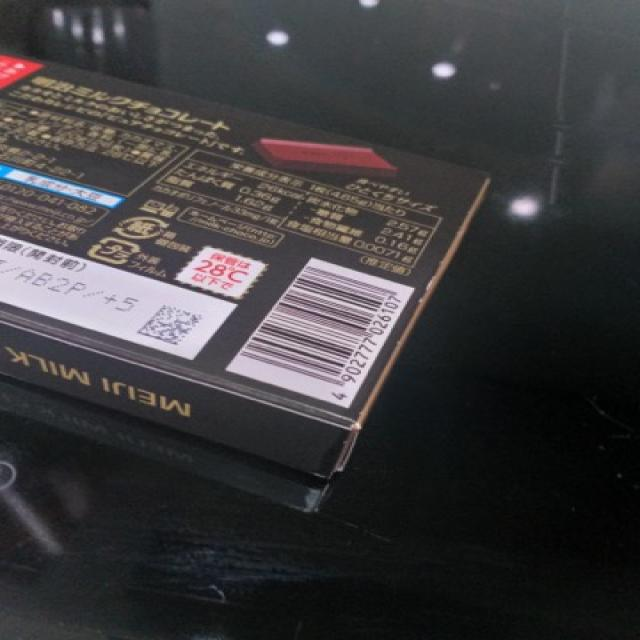PaperCardboard: (0, 57, 507, 505)
